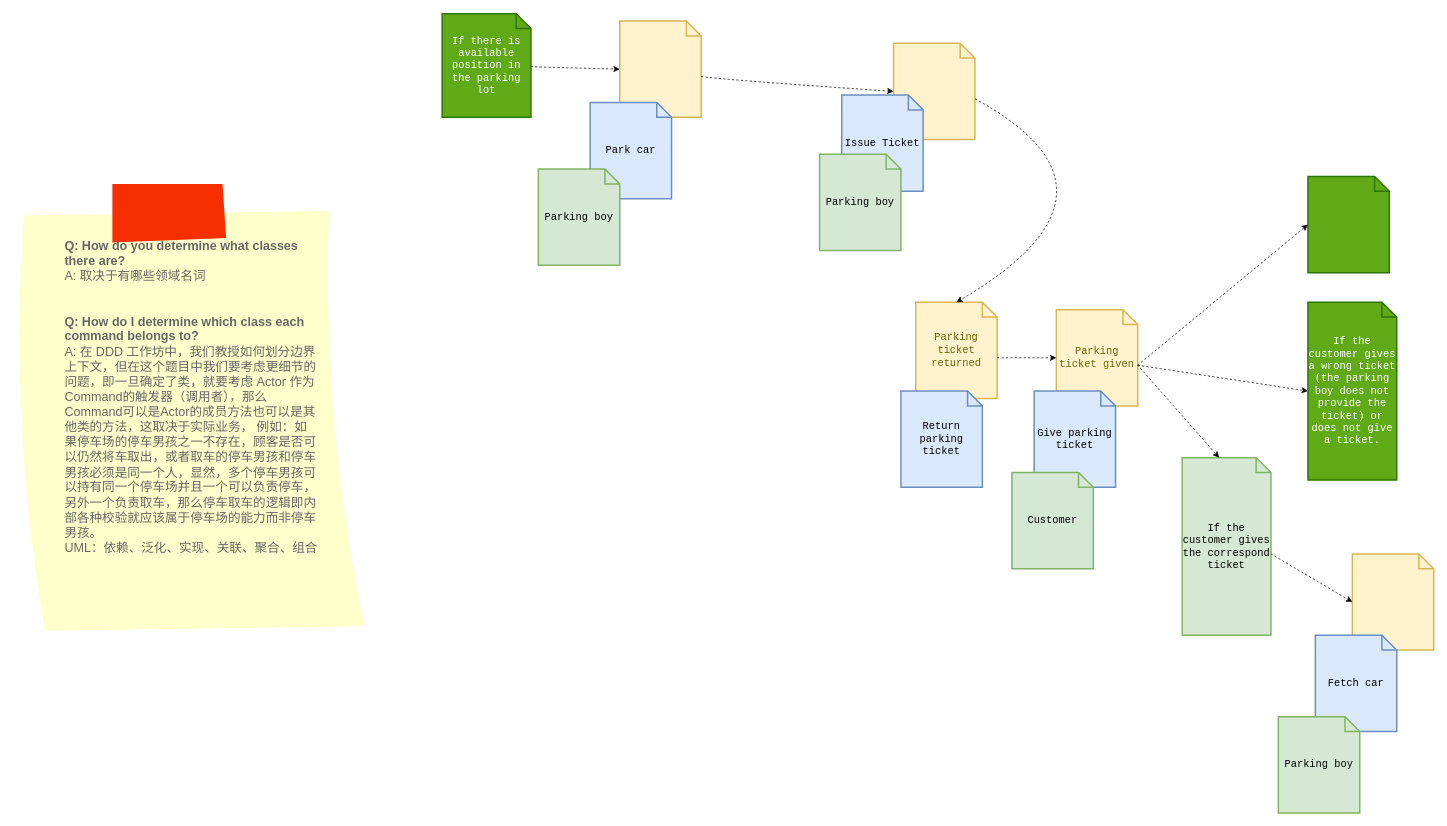
Image size: 1447x826. Some labels were removed from this diagram. The centre of each missing label's shape, as x and y in pixels:
"Car fetched" belongs at [1392,601].
"Car parked" belongs at [660,69].
"If the customer gives a ticket that has already been used" belongs at [1348,224].
"Ticket issued" belongs at [933,91].
